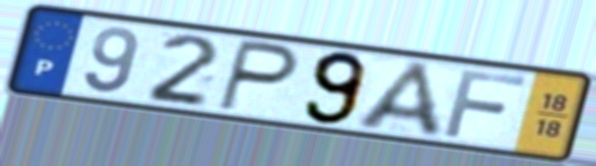2: (140, 33, 224, 110)
9: (298, 49, 373, 128), (81, 25, 142, 96)
A: (350, 58, 447, 142)
F: (440, 67, 531, 140)
P: (213, 36, 302, 116)
